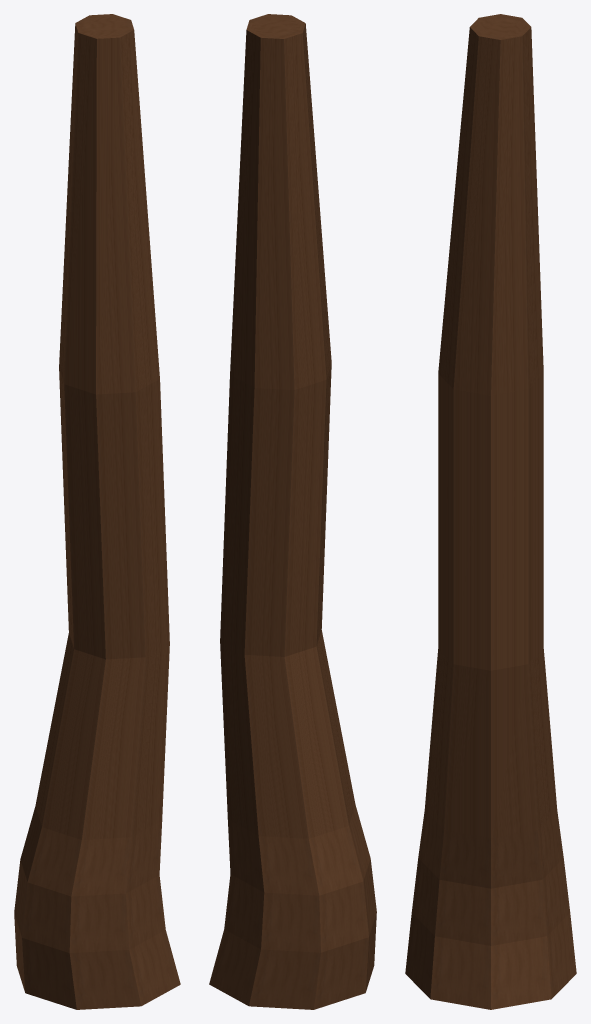
Rendered from TreeDead.fbx.
The picture shows the model from 3 angles, left to right: view 1: azimuth 30°, elevation 25°; view 2: azimuth 150°, elevation 25°; view 3: azimuth 270°, elevation 25°; orthographic projection.
Parts seen in each view (by area): view 1: DeadTree2; view 2: DeadTree2; view 3: DeadTree2.
Part boxes in pixels (x1,y1,x2,y2): DeadTree2: [14, 14, 180, 1009]; DeadTree2: [209, 14, 376, 1009]; DeadTree2: [405, 14, 576, 1009].
Bounding box in the file's own units: 329 × 1971 × 322.
